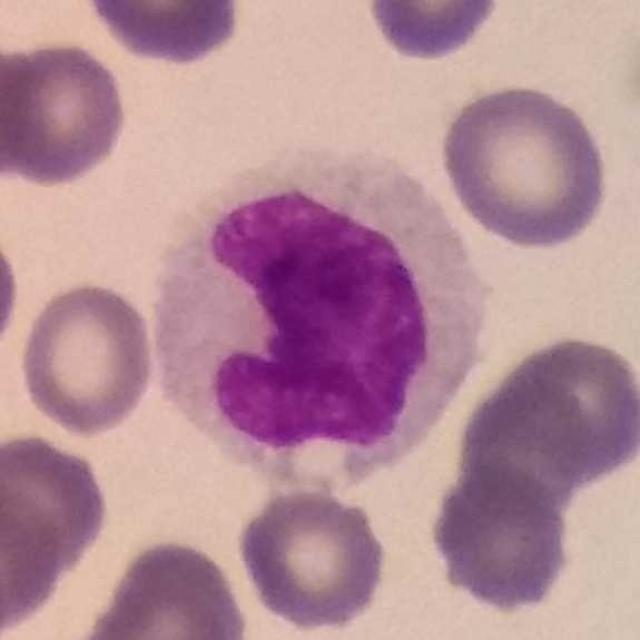mono: (151, 132, 488, 492)
